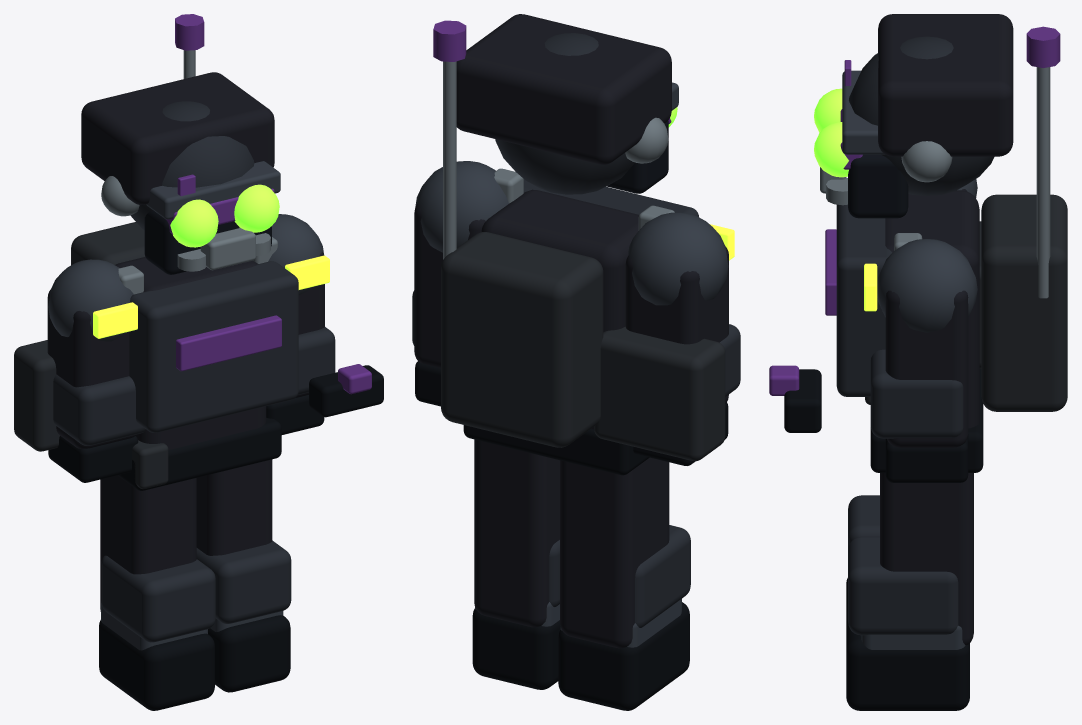
The model's file is recon_l01.glb.
The picture shows the model from 3 angles, left to right: view 1: azimuth 30°, elevation 25°; view 2: azimuth 150°, elevation 25°; view 3: azimuth 270°, elevation 25°; orthographic projection. The views are drawn at different scales.
Parts seen in each view (by area): view 1: segmented_vest, trouser (×2), hood, shaped_knee_guard (×2), boot (×2), forearm_plate (×2), shoulder_joint (×2), sleeve (×2), belt, rounded_helmet, map_satchel, glove (×2) (+16 smaller); view 2: field_pack, trouser (×2), hood, map_satchel, boot (×2), shoulder_joint (×2), sleeve (×2), body, rounded_helmet, shaped_knee_guard (×2), belt, signal_mast (+8 smaller); view 3: hood, field_pack, trouser, shaped_knee_guard (×2), boot, segmented_vest, sleeve, shoulder_joint, body, forearm_plate, rounded_helmet, enclosed_mask (+14 smaller).
Part boxes in pixels (bbox=[...]): segmented_vest: bbox=[129, 261, 298, 432]; trouser (×2): bbox=[100, 459, 272, 611]; hood: bbox=[81, 72, 274, 204]; shaped_knee_guard (×2): bbox=[101, 540, 291, 642]; boot (×2): bbox=[99, 615, 290, 710]; forearm_plate (×2): bbox=[53, 327, 335, 445]; shoulder_joint (×2): bbox=[48, 214, 323, 341]; sleeve (×2): bbox=[47, 252, 324, 448]; belt: bbox=[118, 418, 281, 490]; rounded_helmet: bbox=[130, 101, 254, 229]; map_satchel: bbox=[14, 340, 59, 451]; glove (×2): bbox=[48, 395, 324, 482]; field_pack: bbox=[441, 232, 603, 447]; trouser (×2): bbox=[474, 439, 669, 648]; hood: bbox=[456, 14, 671, 164]; map_satchel: bbox=[594, 326, 725, 461]; boot (×2): bbox=[472, 602, 689, 710]; shoulder_joint (×2): bbox=[415, 161, 728, 305]; sleeve (×2): bbox=[414, 203, 728, 403]; body: bbox=[481, 189, 638, 429]; rounded_helmet: bbox=[495, 33, 634, 194]; shaped_knee_guard (×2): bbox=[549, 525, 690, 627]; belt: bbox=[463, 425, 649, 475]; signal_mast: bbox=[443, 61, 456, 259]; hood: bbox=[878, 14, 1013, 156]; field_pack: bbox=[981, 194, 1067, 411]; trouser: bbox=[880, 473, 973, 645]; shaped_knee_guard (×2): bbox=[848, 495, 958, 635]; boot: bbox=[846, 619, 969, 710]; segmented_vest: bbox=[836, 204, 892, 396]; sleeve: bbox=[885, 290, 968, 447]; shoulder_joint: bbox=[877, 239, 977, 332]; body: bbox=[885, 190, 979, 428]; forearm_plate: bbox=[870, 349, 963, 438]; rounded_helmet: bbox=[849, 36, 994, 195]; enclosed_mask: bbox=[848, 154, 908, 218].
Size of the model in its own units: 0.9625 by 1.97 by 0.795.
